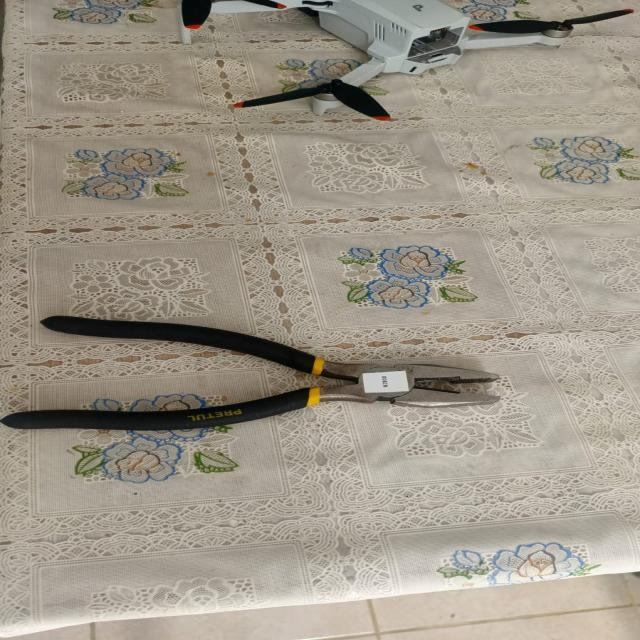alicate: (24, 299, 527, 455)
